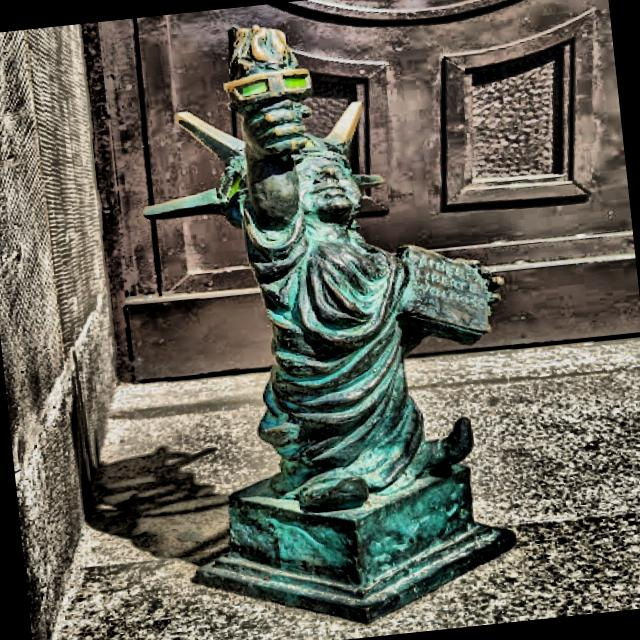LadyWolnosc: (144, 25, 514, 621)
